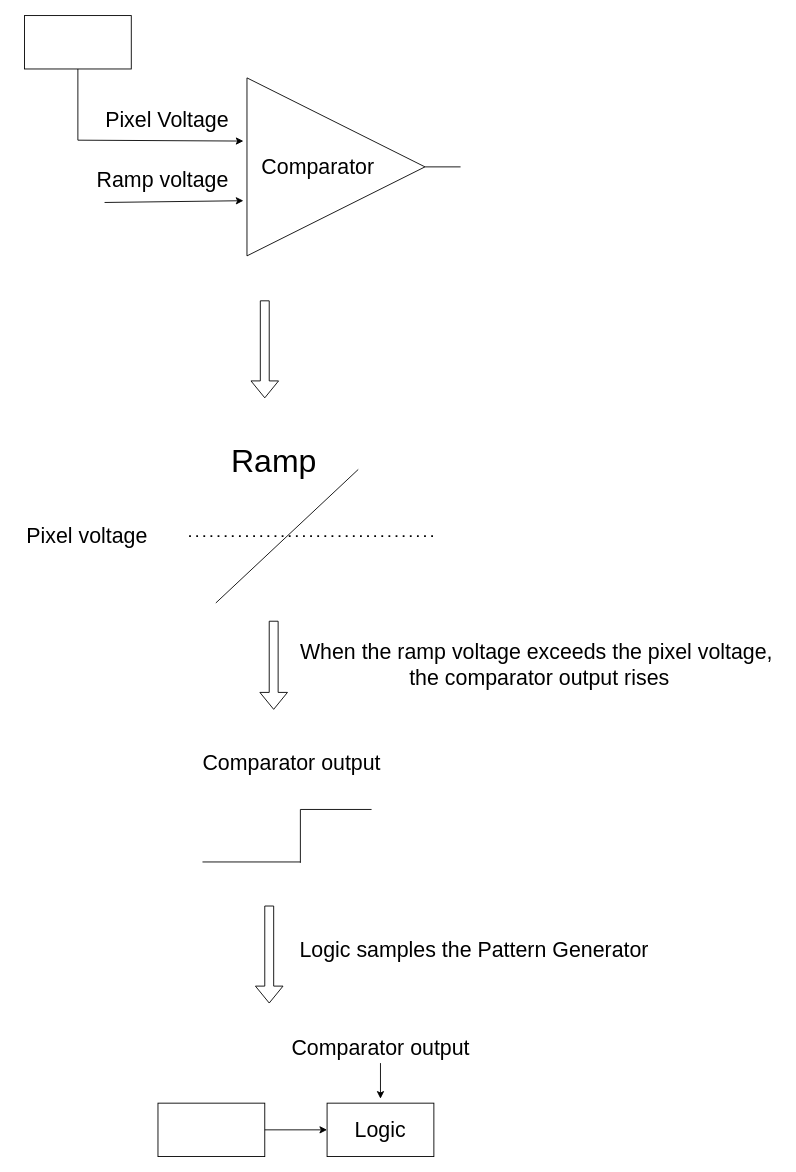
Some shapes in this 796 by 1172 pixel diagram are drawn without their labels. Here are the shapes that lost their labels. From the top down, the centre of each, then its label:
pixel 77 42: Pixel
pixel 211 1129: Pattern Generator
